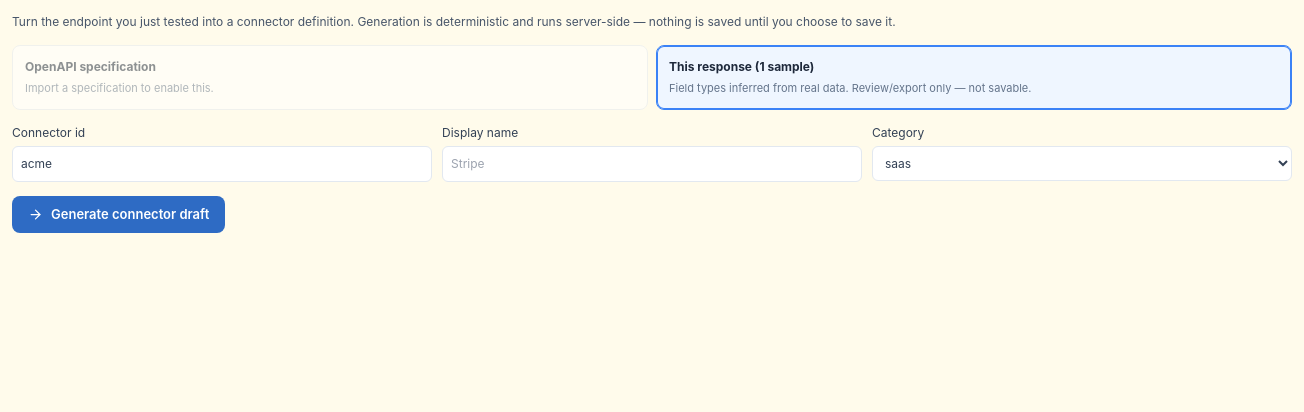
Test: connector draft step › generates from the live response and does not offer an unsupported save
Click the button "Generate connector draft" at (119, 214), box [12,196,225,233]
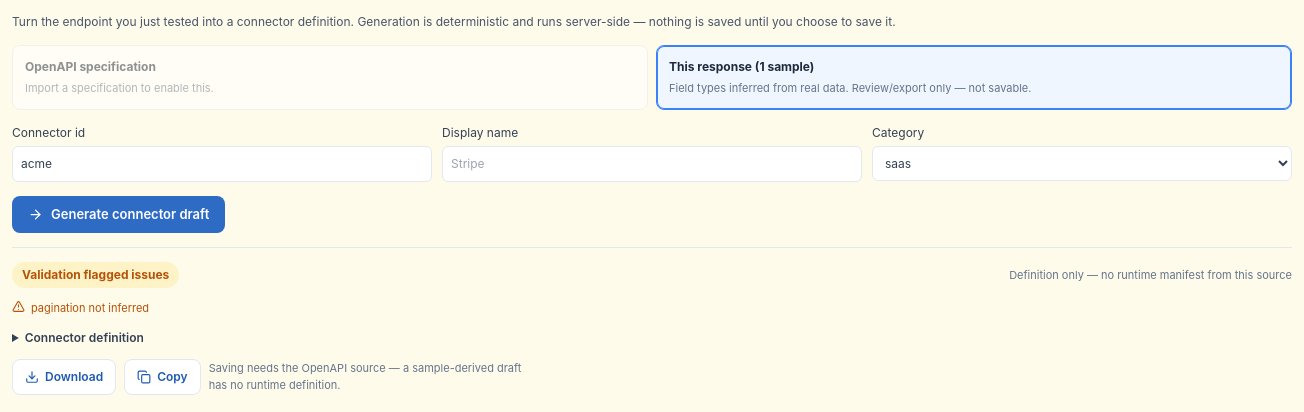
Result: the text "Validation flagged issues" is shown at [12,262,179,288]
Result: the list item "pagination not inferred" is shown at [12,300,149,315]
Result: the text "has no runtime definition" is shown at [209,361,521,392]
